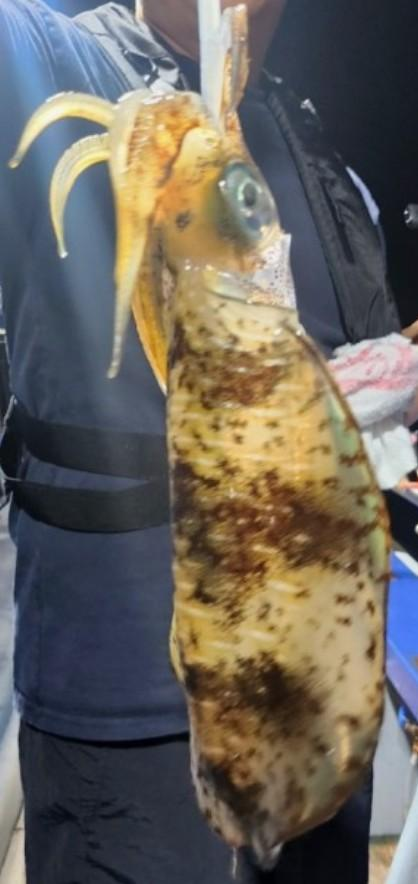Cephalopod: (8, 9, 390, 862)
